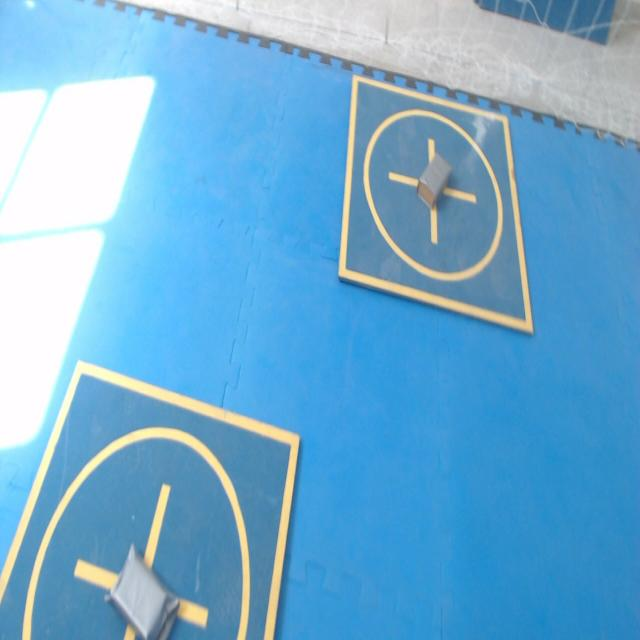lipo: (106, 545, 178, 639), (418, 154, 450, 206)
